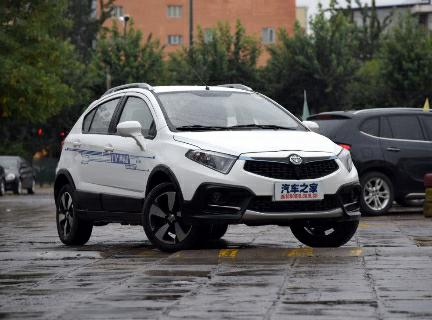??-H220: (56, 82, 366, 256)
